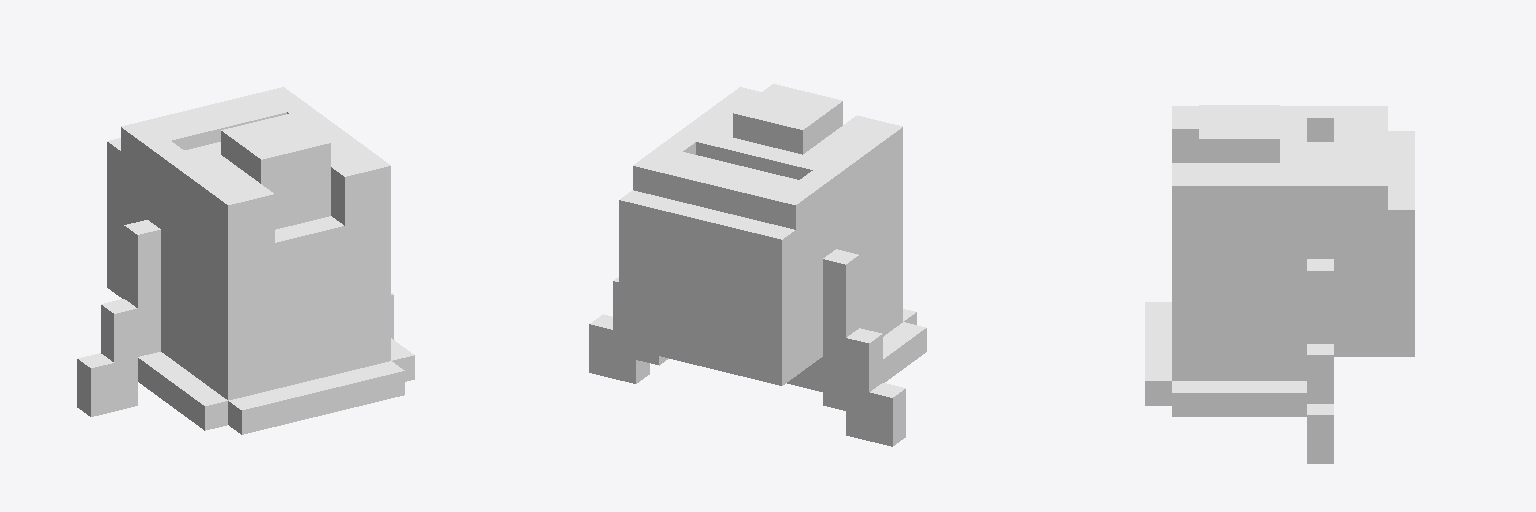
File: kiritan_Body.obj
3 views of the same model, side by side, from view 1: azimuth 30°, elevation 25°; view 2: azimuth 150°, elevation 25°; view 3: azimuth 270°, elevation 25° (orthographic).
Visible parts, largest first — view 1: kiritan_Body; view 2: kiritan_Body; view 3: kiritan_Body.
Part boxes in pixels (x1,y1,x2,y2): kiritan_Body: (77,87,414,434); kiritan_Body: (589,84,926,446); kiritan_Body: (1145,105,1414,463).
Bounding box in the file's own units: 13 × 11 × 10.